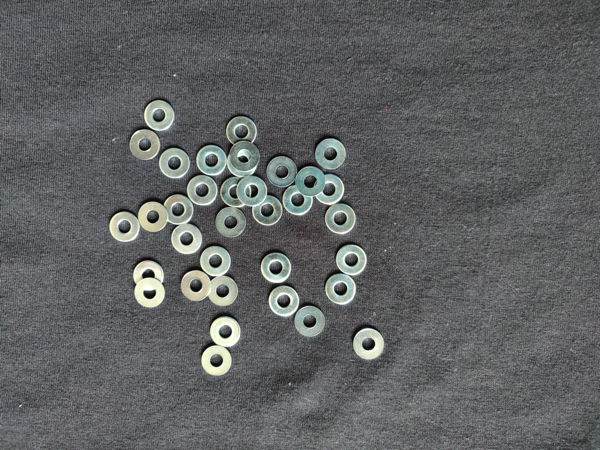circle: (196, 144, 228, 177), (129, 129, 161, 161), (159, 147, 191, 179), (315, 138, 347, 170), (266, 156, 298, 188), (171, 223, 203, 255), (337, 245, 369, 277), (353, 329, 385, 361), (144, 99, 175, 132), (226, 116, 258, 147), (109, 211, 140, 243), (163, 193, 194, 225), (201, 345, 232, 377), (261, 252, 292, 284), (325, 274, 357, 305), (227, 145, 257, 178), (252, 195, 283, 226), (135, 278, 166, 309), (269, 286, 300, 317), (326, 203, 356, 235), (201, 246, 231, 278), (315, 174, 345, 205), (283, 186, 314, 216), (217, 207, 247, 238), (238, 176, 268, 207), (134, 261, 164, 292), (182, 271, 212, 302), (211, 317, 241, 348), (296, 306, 326, 337), (296, 167, 326, 197), (230, 142, 260, 172), (188, 176, 218, 206), (222, 177, 251, 208), (139, 202, 168, 233), (208, 277, 238, 306)
